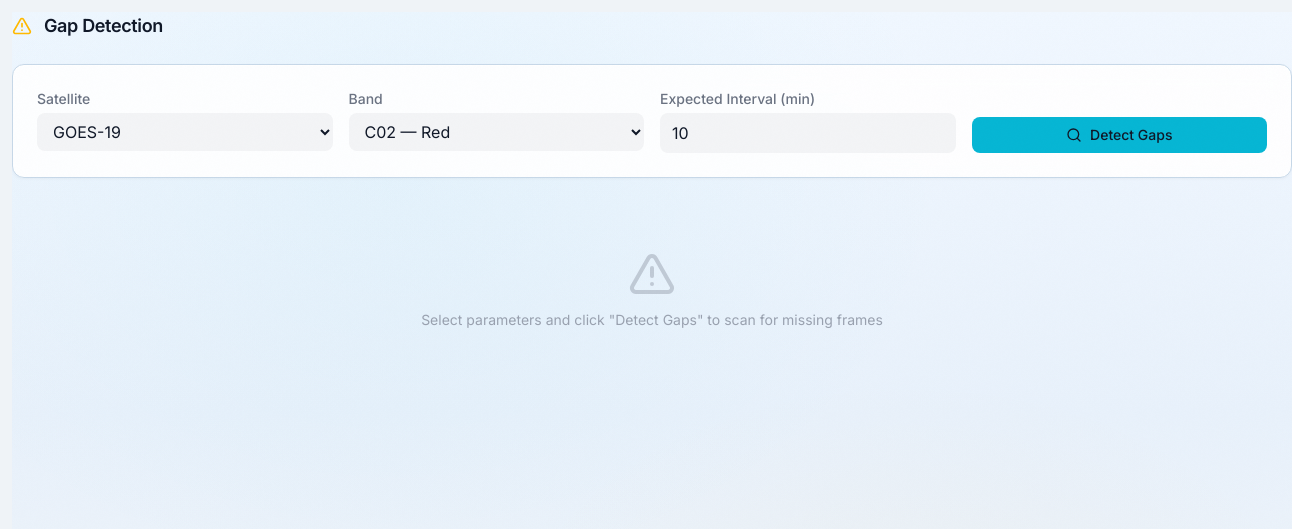
GapsTab › shows coverage percentage after scan
Click the button "Detect Gaps" at (1119, 135), box x1=972 y1=117 x2=1267 y2=153
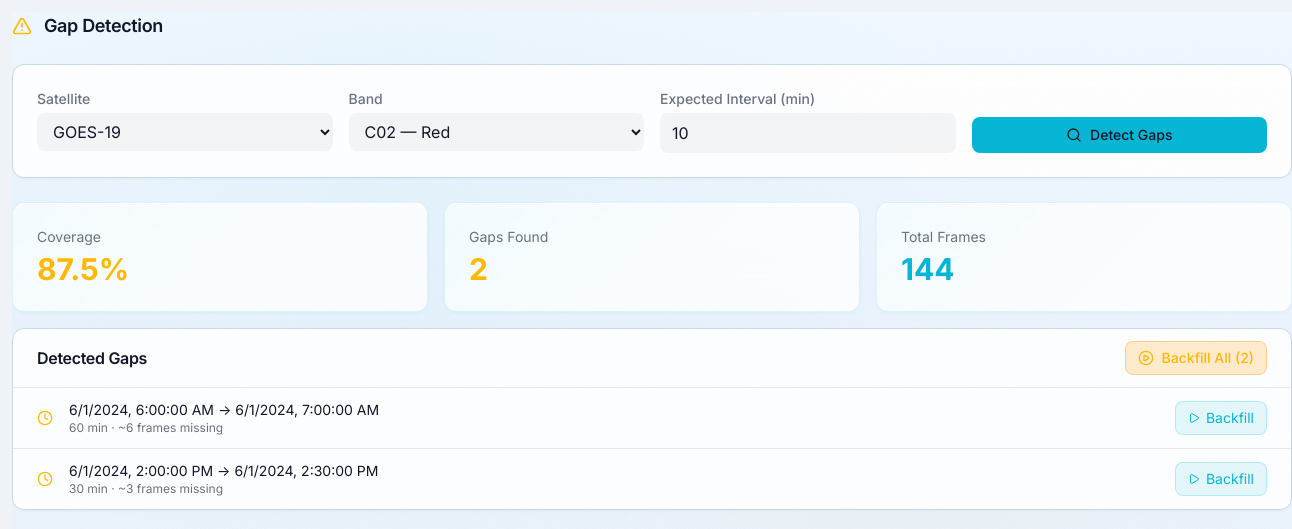
Expected: the text "87.5%" is shown, x1=37 y1=251 x2=129 y2=287
Expected: the text "2" is shown, x1=469 y1=251 x2=488 y2=287
Expected: the text "144" is shown, x1=901 y1=251 x2=954 y2=287
